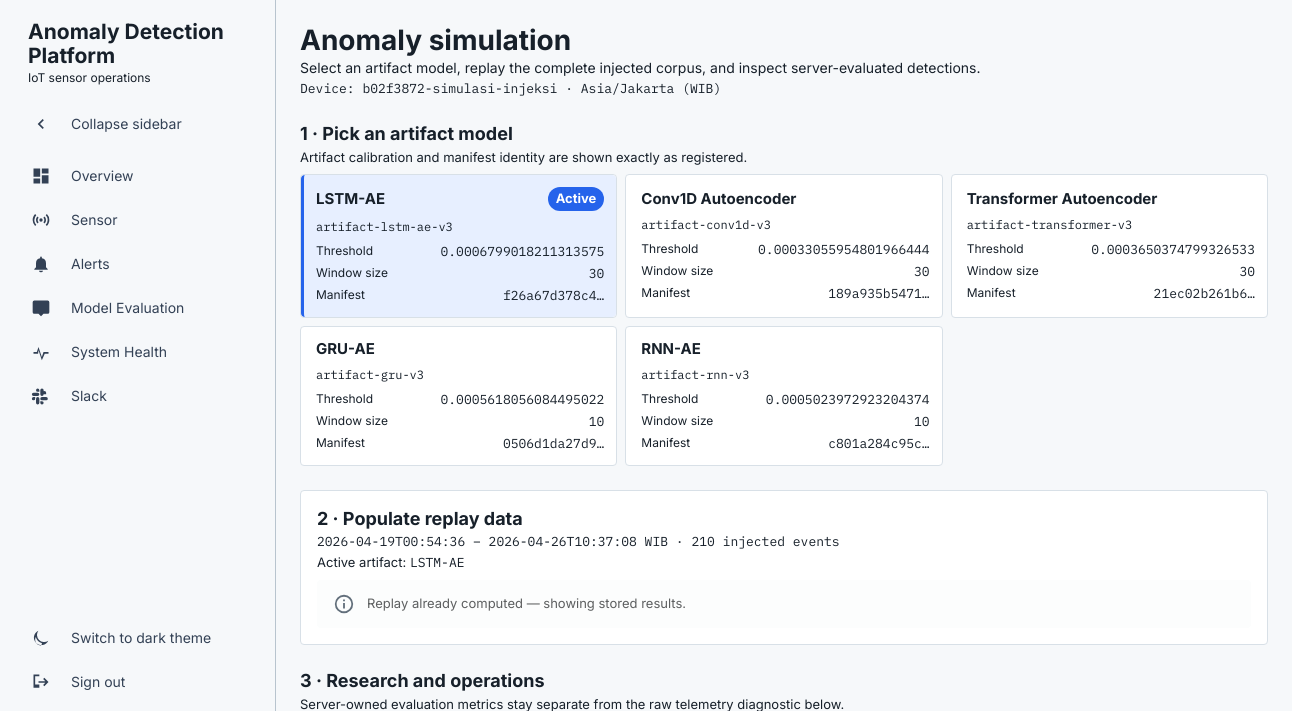
Scenario: SimulationPage › falls back to stored results when replay population overlaps an existing job
The width and height of the screenshot is (1292, 711).
Click the button named "GRU-AE, select model" at x=459, y=396, box x1=301 y1=327 x2=616 y2=465
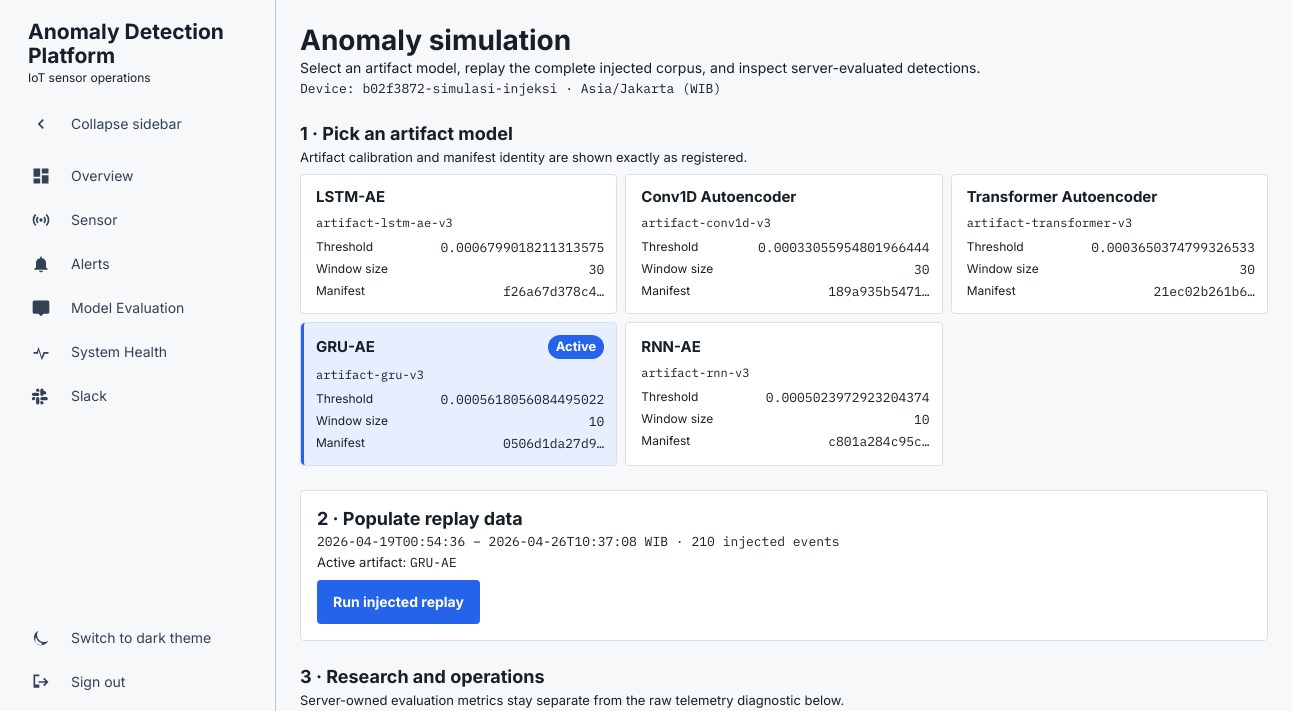
Click the button "Run injected replay" at x=398, y=602, box x1=317 y1=580 x2=480 y2=624
(page scrolled)
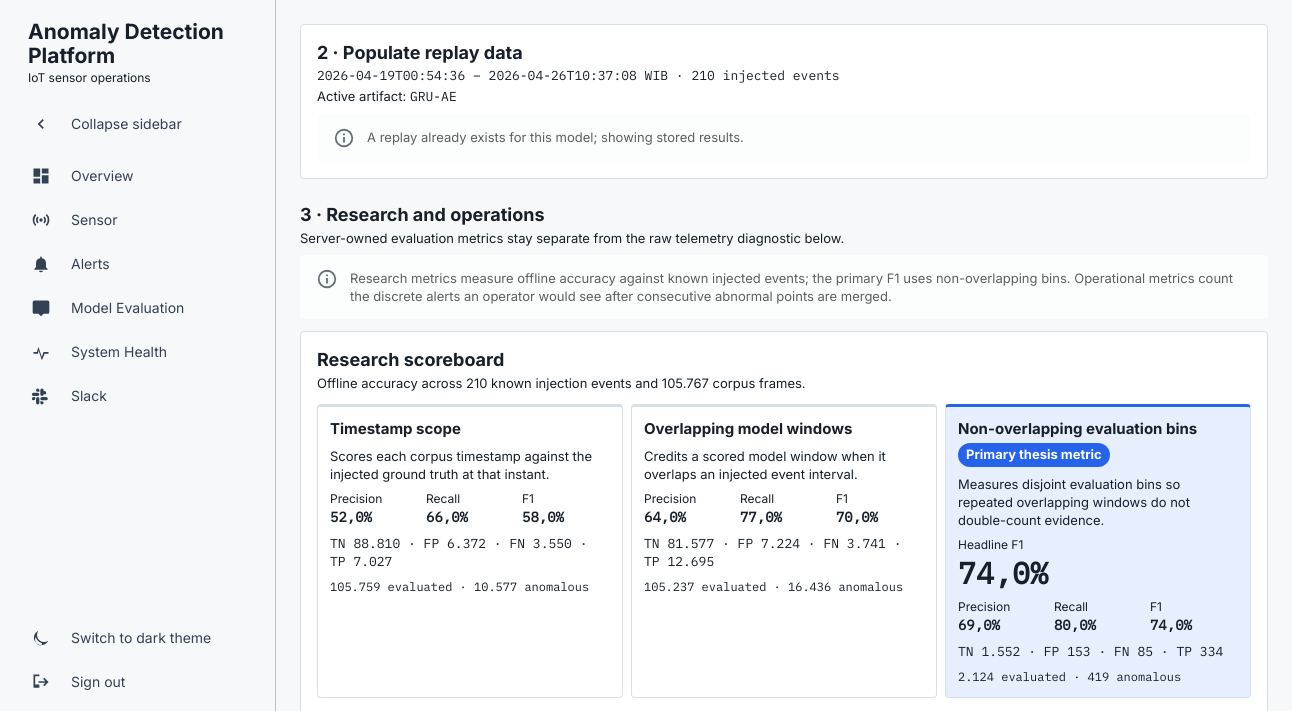
Expected: the text "A replay already exists for this model; showing stored results." is shown, x1=367 y1=129 x2=744 y2=145
Expected: the heading "Research scoreboard" is shown, x1=317 y1=349 x2=504 y2=370
